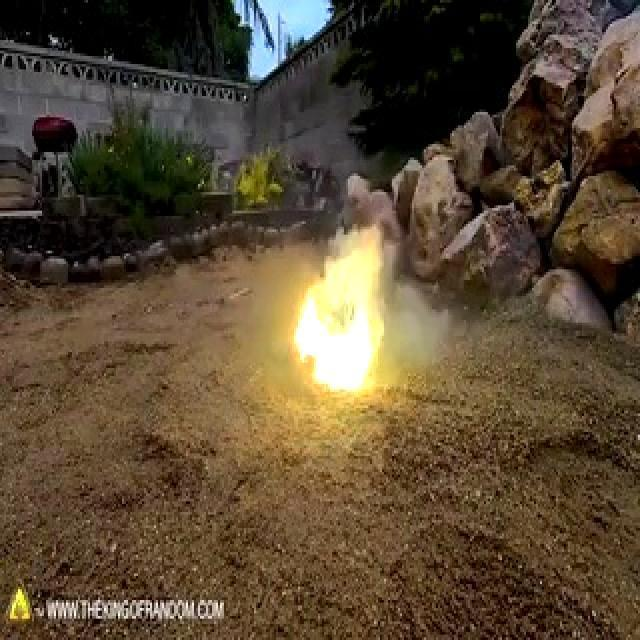Fire: (284, 298, 392, 398)
Smoke: (392, 282, 464, 387), (316, 225, 392, 298)
